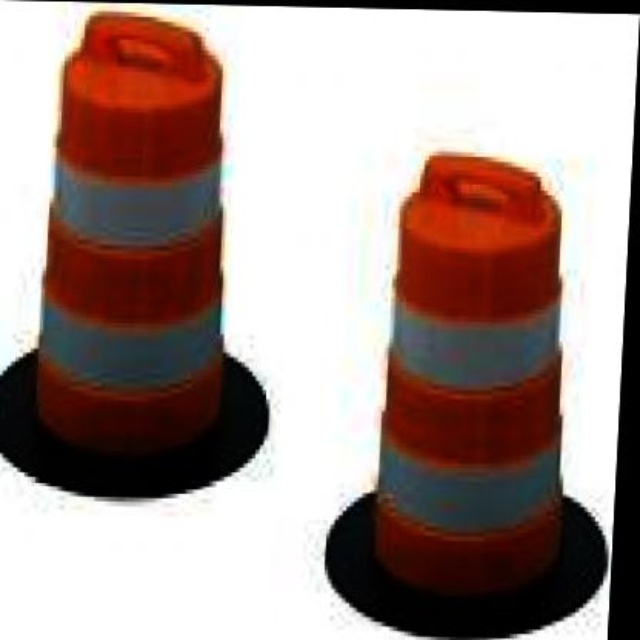obstacle: (359, 134, 594, 623), (27, 15, 256, 461)
